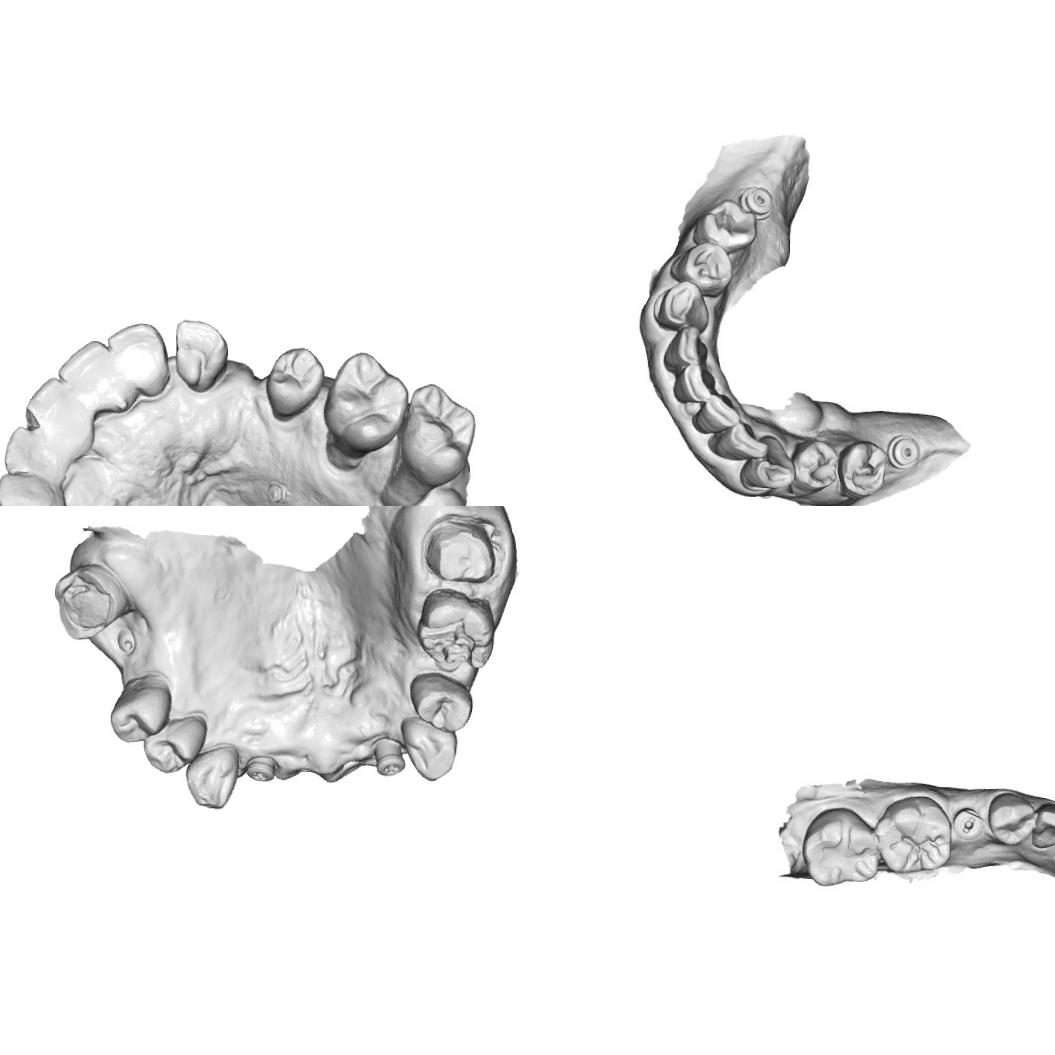canine: (172, 317, 229, 394), (398, 714, 458, 782), (184, 743, 239, 810), (738, 434, 798, 492), (652, 279, 710, 333), (0, 469, 69, 506), (1031, 801, 1055, 850)
crown: (422, 513, 502, 583)
implant: (734, 183, 776, 221), (886, 433, 922, 470)
implant_minus: (952, 806, 984, 841)
implant_plus: (370, 735, 408, 779), (244, 754, 278, 784)
incisor: (105, 320, 166, 390), (56, 338, 115, 400), (23, 374, 78, 436), (1, 423, 57, 482), (706, 420, 768, 463), (662, 324, 710, 373), (690, 391, 742, 435), (671, 361, 718, 406)
molar: (320, 350, 410, 450), (397, 381, 480, 487), (412, 586, 498, 674), (800, 805, 882, 888), (50, 560, 128, 642), (875, 794, 953, 873)
premolar: (107, 673, 175, 746), (263, 344, 322, 416), (141, 713, 210, 774), (408, 671, 474, 733), (668, 240, 734, 299), (692, 198, 758, 253), (836, 438, 889, 501), (788, 438, 839, 499), (986, 791, 1036, 847)
